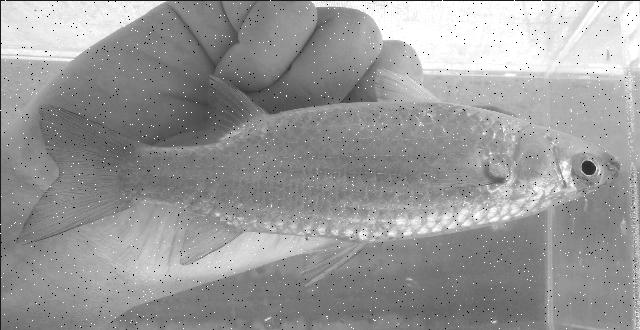Mulut: (592, 138, 626, 190)
Sirip Anal: (187, 70, 279, 158)
Sirip Dada: (416, 136, 509, 192)
Sirip Ekor: (12, 98, 130, 252)
Sirip Perut: (362, 59, 448, 115)
Sirip Punggung: (168, 205, 376, 298)
